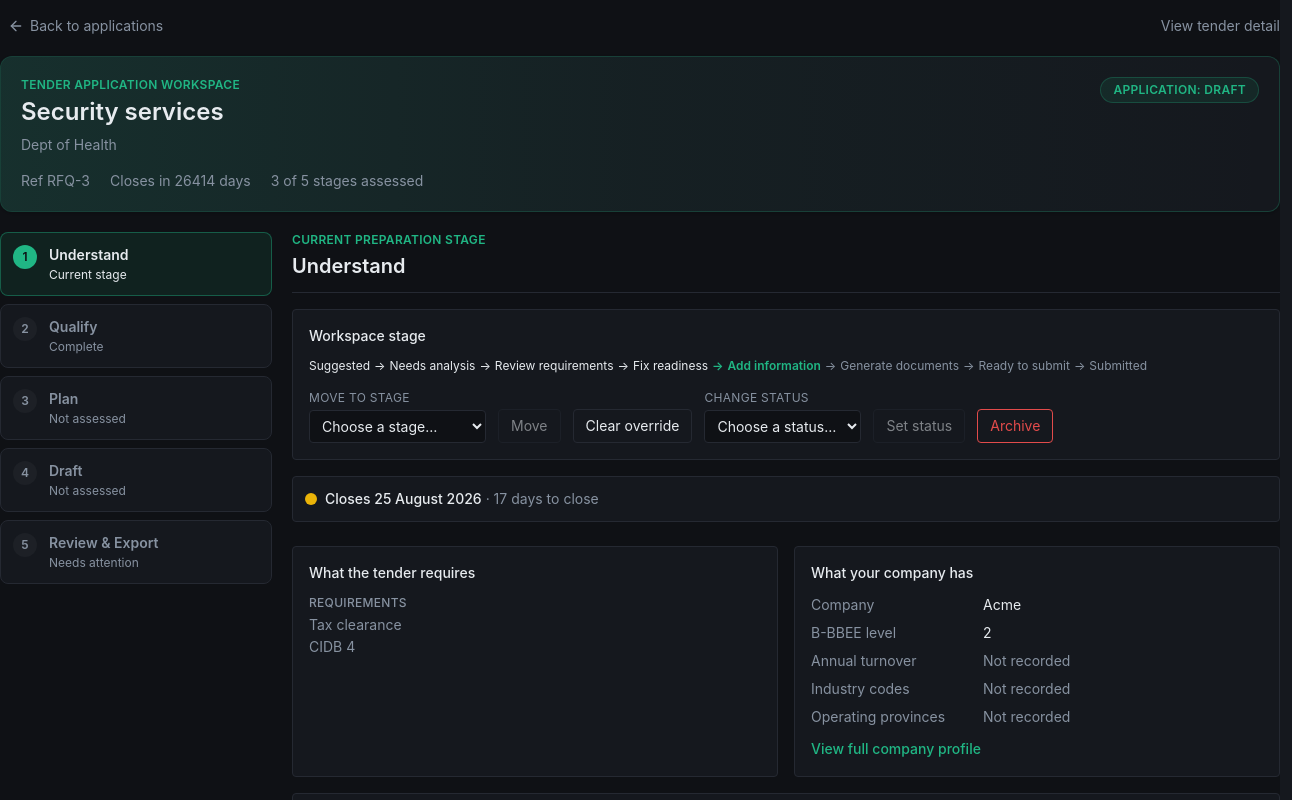
Test: ApplicationWorkspace — workspace cockpit › shows the parent's error and allowed transitions verbatim on a 400
The image size is (1292, 800).
Expected: the text "Add information" is shown, [728,358,821,374]
Select "SUBMITTED" in the dropdown labelled "Change status": (783, 426) [704,410,861,443]
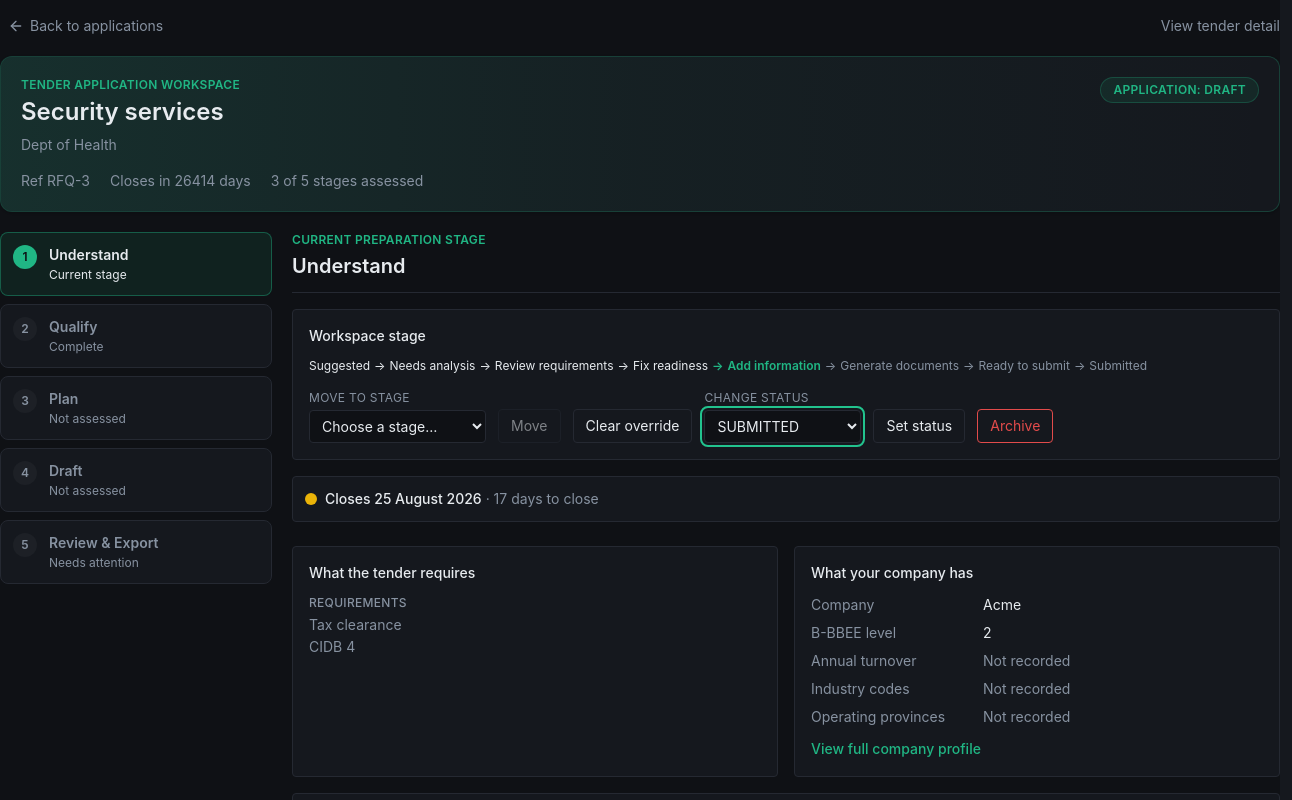
Click the button "Set status": (919, 426) [873,409,965,443]
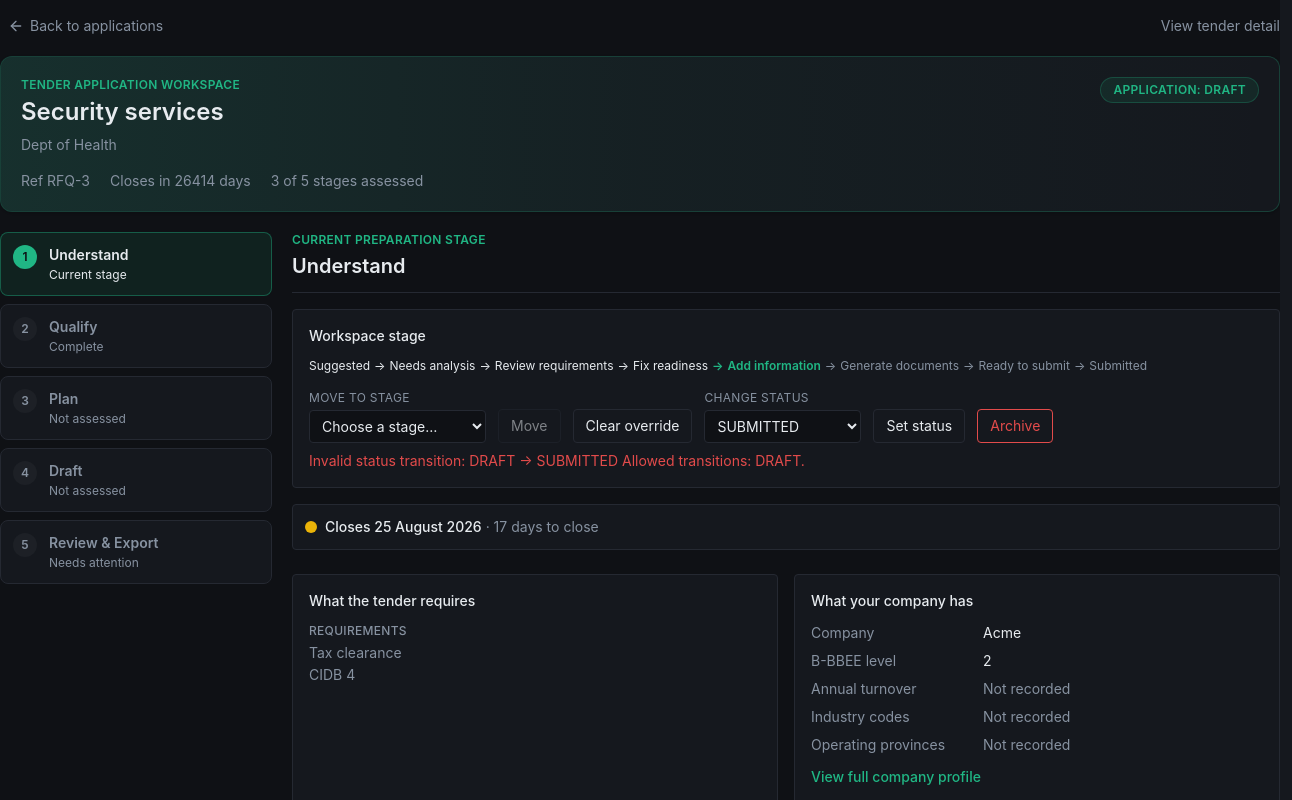
Result: the text "Invalid status transition: DRAFT -> SUBMITTED Allowed transitions: DRAFT." is shown at [309,452,805,469]
